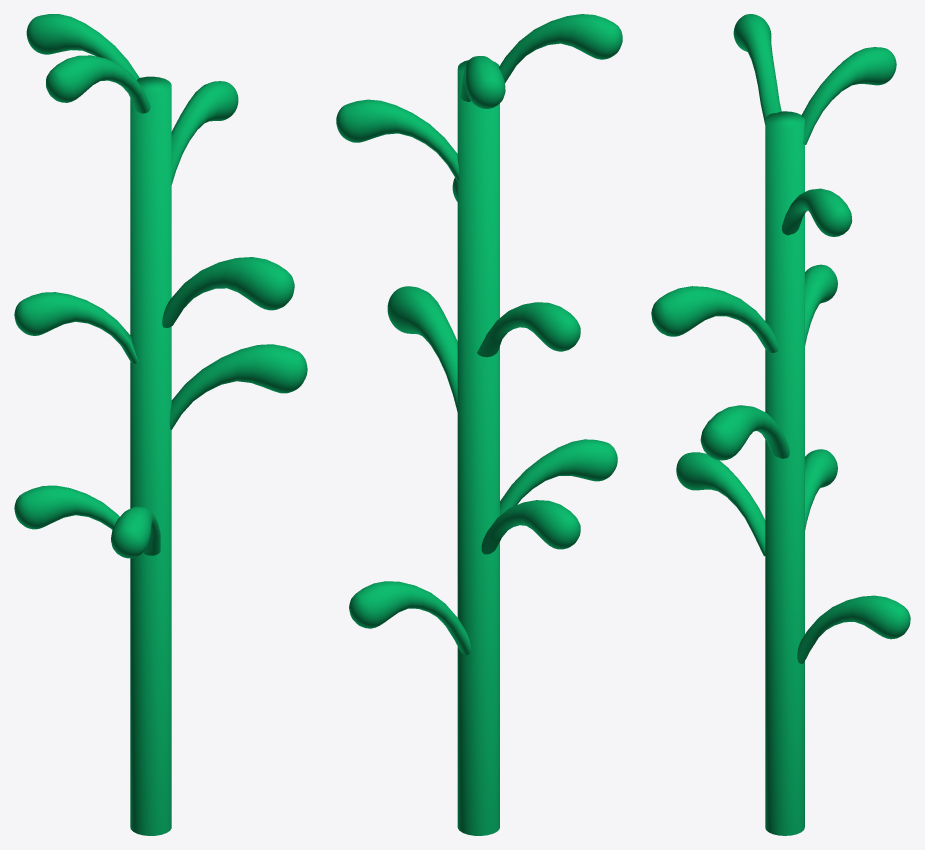
Rendered from l_drzewo_duze_4.fbx.
The picture shows the model from 3 angles, left to right: view 1: azimuth 30°, elevation 25°; view 2: azimuth 150°, elevation 25°; view 3: azimuth 270°, elevation 25°; orthographic projection. The views are drawn at different scales.
Visible parts, largest first — view 1: drzewo_male; view 2: drzewo_male; view 3: drzewo_male.
Boxes of the visible parts, left/top/right/bottom form: drzewo_male: left=14, top=14, right=307, bottom=835; drzewo_male: left=336, top=14, right=622, bottom=835; drzewo_male: left=651, top=14, right=910, bottom=835.
Bounding box in the file's own units: 394 × 1255 × 385.
